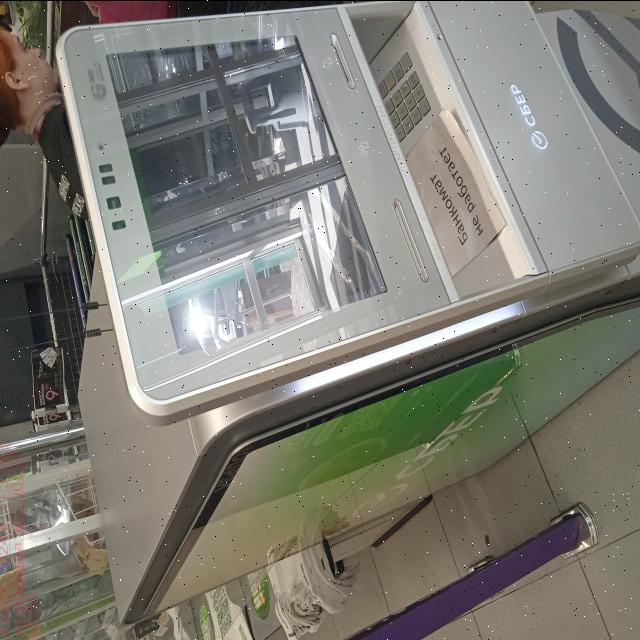bank: (57, 0, 640, 626)
